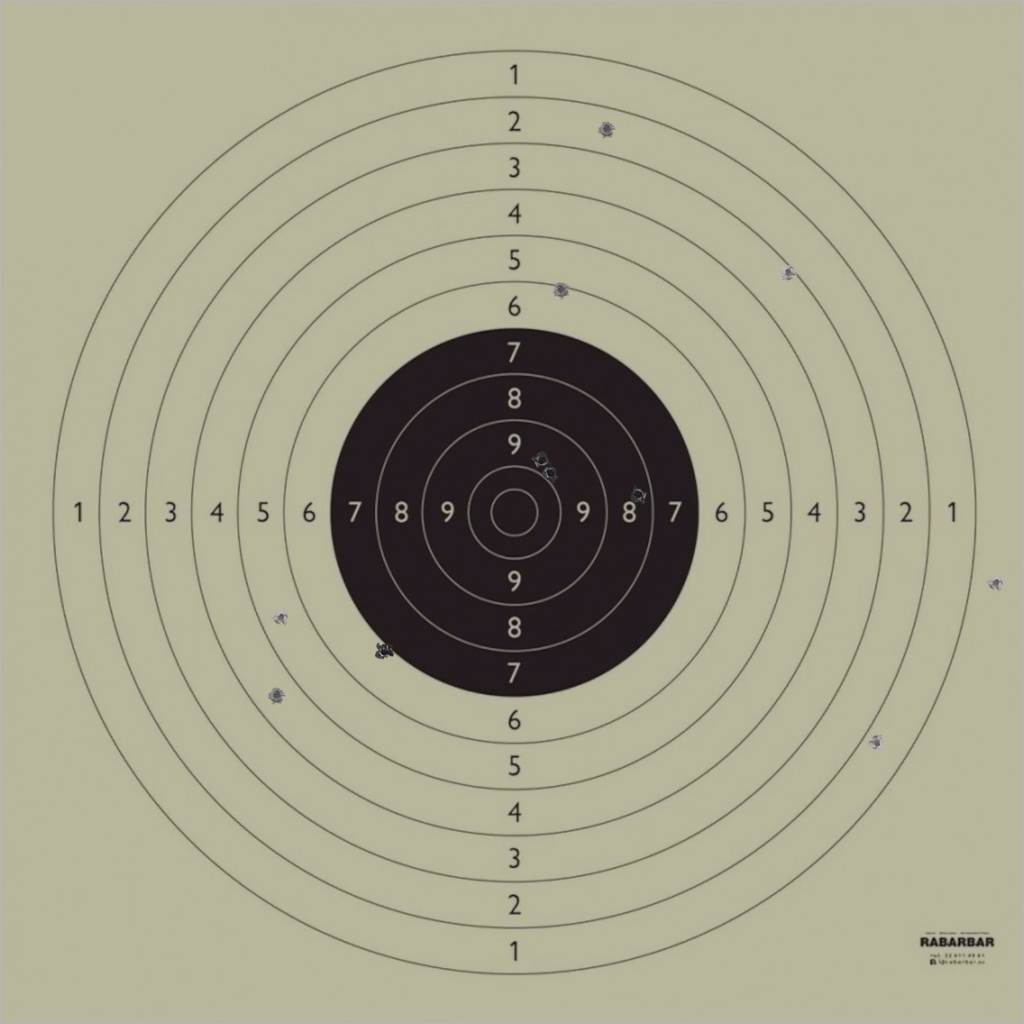0 punktow: (987, 574, 1005, 592)
1 punkt: (868, 734, 886, 752)
10 punktow: (541, 464, 560, 483)
2 punkty: (597, 120, 616, 138)
3 punkty: (779, 263, 798, 282)
4 punkty: (268, 686, 286, 704)
5 punktow: (272, 608, 290, 627)
6 punktow: (552, 280, 570, 299)
7 punktow: (376, 643, 394, 661)
8 punktow: (629, 486, 648, 504)
9 punktow: (532, 451, 551, 470)
